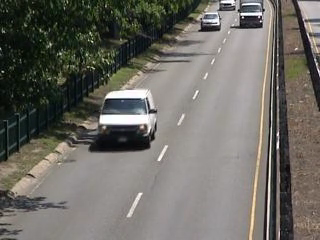car: (198, 12, 224, 32), (218, 1, 238, 13)
truck: (96, 88, 161, 150), (238, 1, 266, 28)
